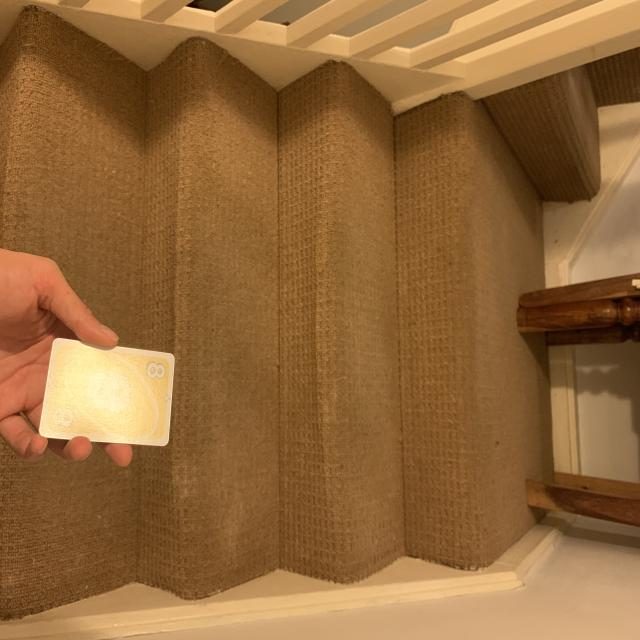lyellow-8: (144, 359, 167, 384)
